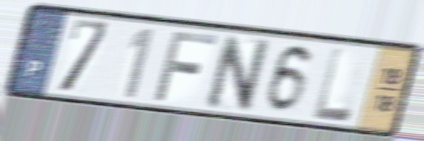1: (123, 25, 157, 100)
6: (263, 43, 316, 115)
7: (58, 17, 112, 96)
F: (150, 29, 221, 104)
L: (311, 45, 355, 125)
N: (203, 32, 273, 113)
